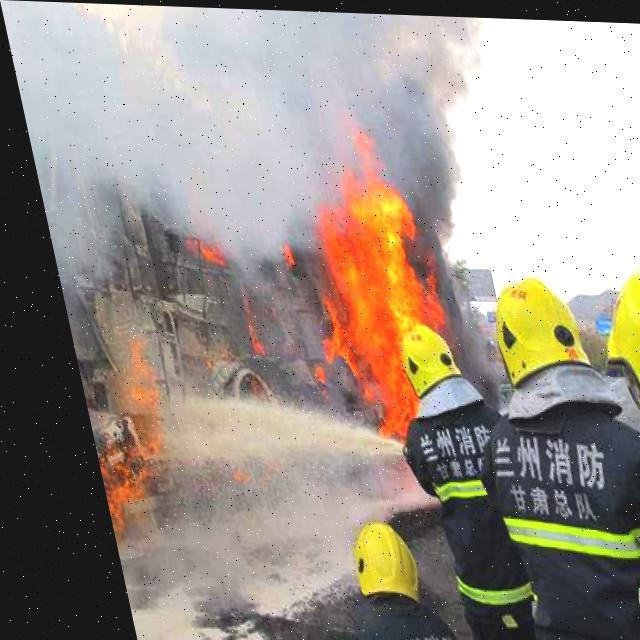Fire: (272, 140, 458, 441), (64, 357, 166, 541), (172, 218, 216, 276)
